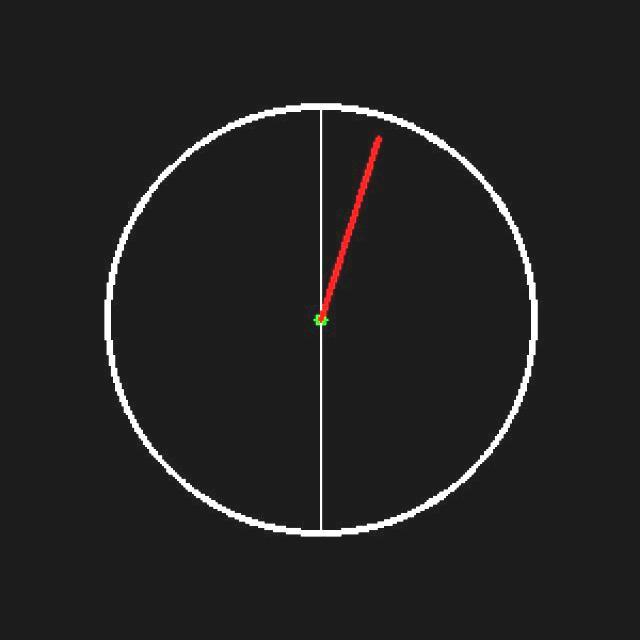Needle_Tip: (352, 129, 398, 171)
Needle_base: (298, 283, 360, 356)
